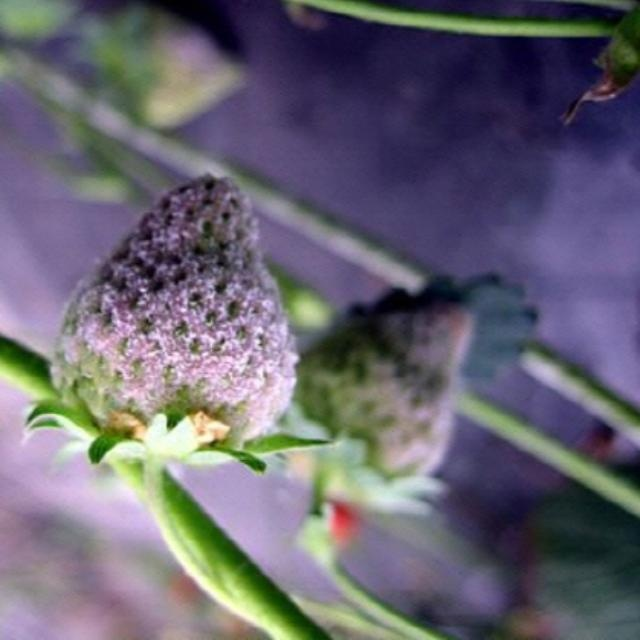Powdery Mildew Fruit: (55, 175, 296, 465), (279, 290, 471, 503)
